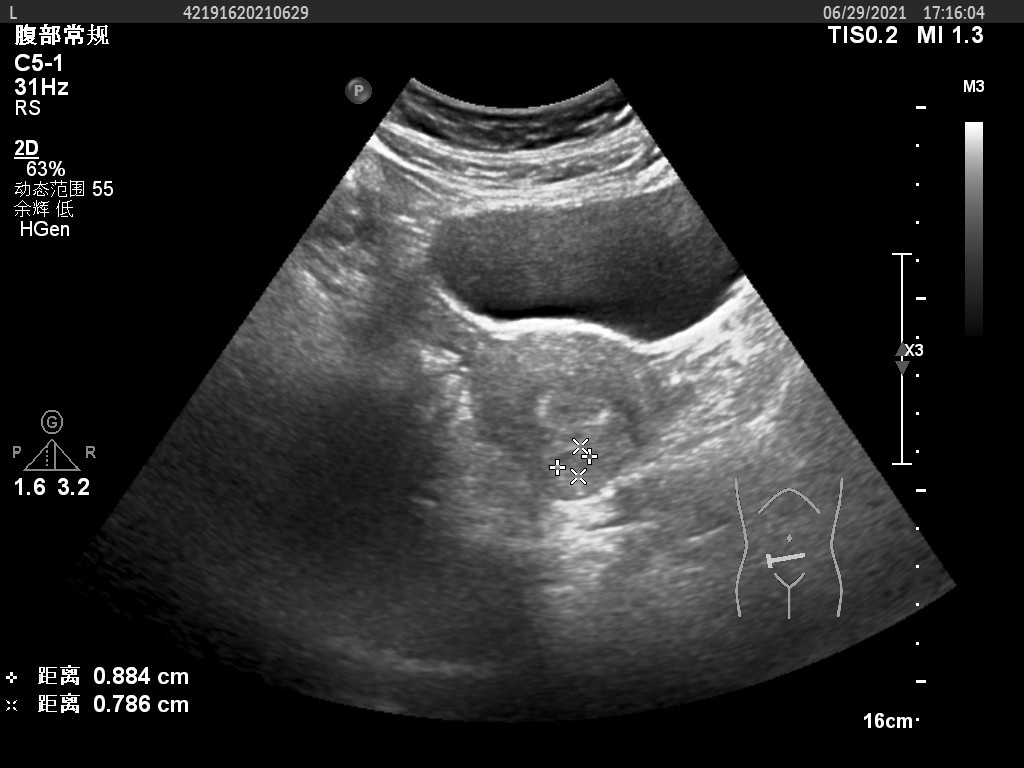肌瘤: (556, 445, 591, 480)
